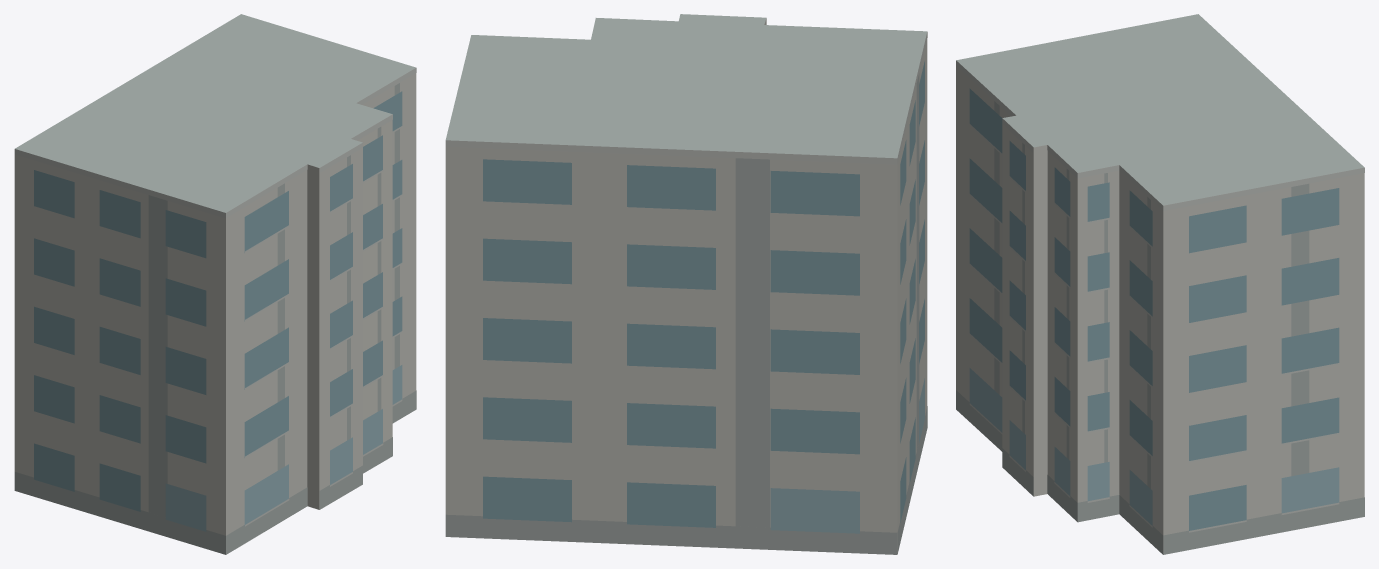
File: survey-upis-33040817.glb
3 views of the same model, side by side, from view 1: azimuth 30°, elevation 25°; view 2: azimuth 150°, elevation 25°; view 3: azimuth 270°, elevation 25° (orthographic). The views are drawn at different scales.
Visible parts, largest first — view 1: survey-upis-33040817.tmp; view 2: survey-upis-33040817.tmp; view 3: survey-upis-33040817.tmp.
Boxes of the visible parts, bbox=[...] form: survey-upis-33040817.tmp: bbox=[14, 14, 416, 554]; survey-upis-33040817.tmp: bbox=[445, 14, 927, 554]; survey-upis-33040817.tmp: bbox=[956, 14, 1364, 554].
Size of the model in its own units: 17.96 by 15.25 by 16.19.
